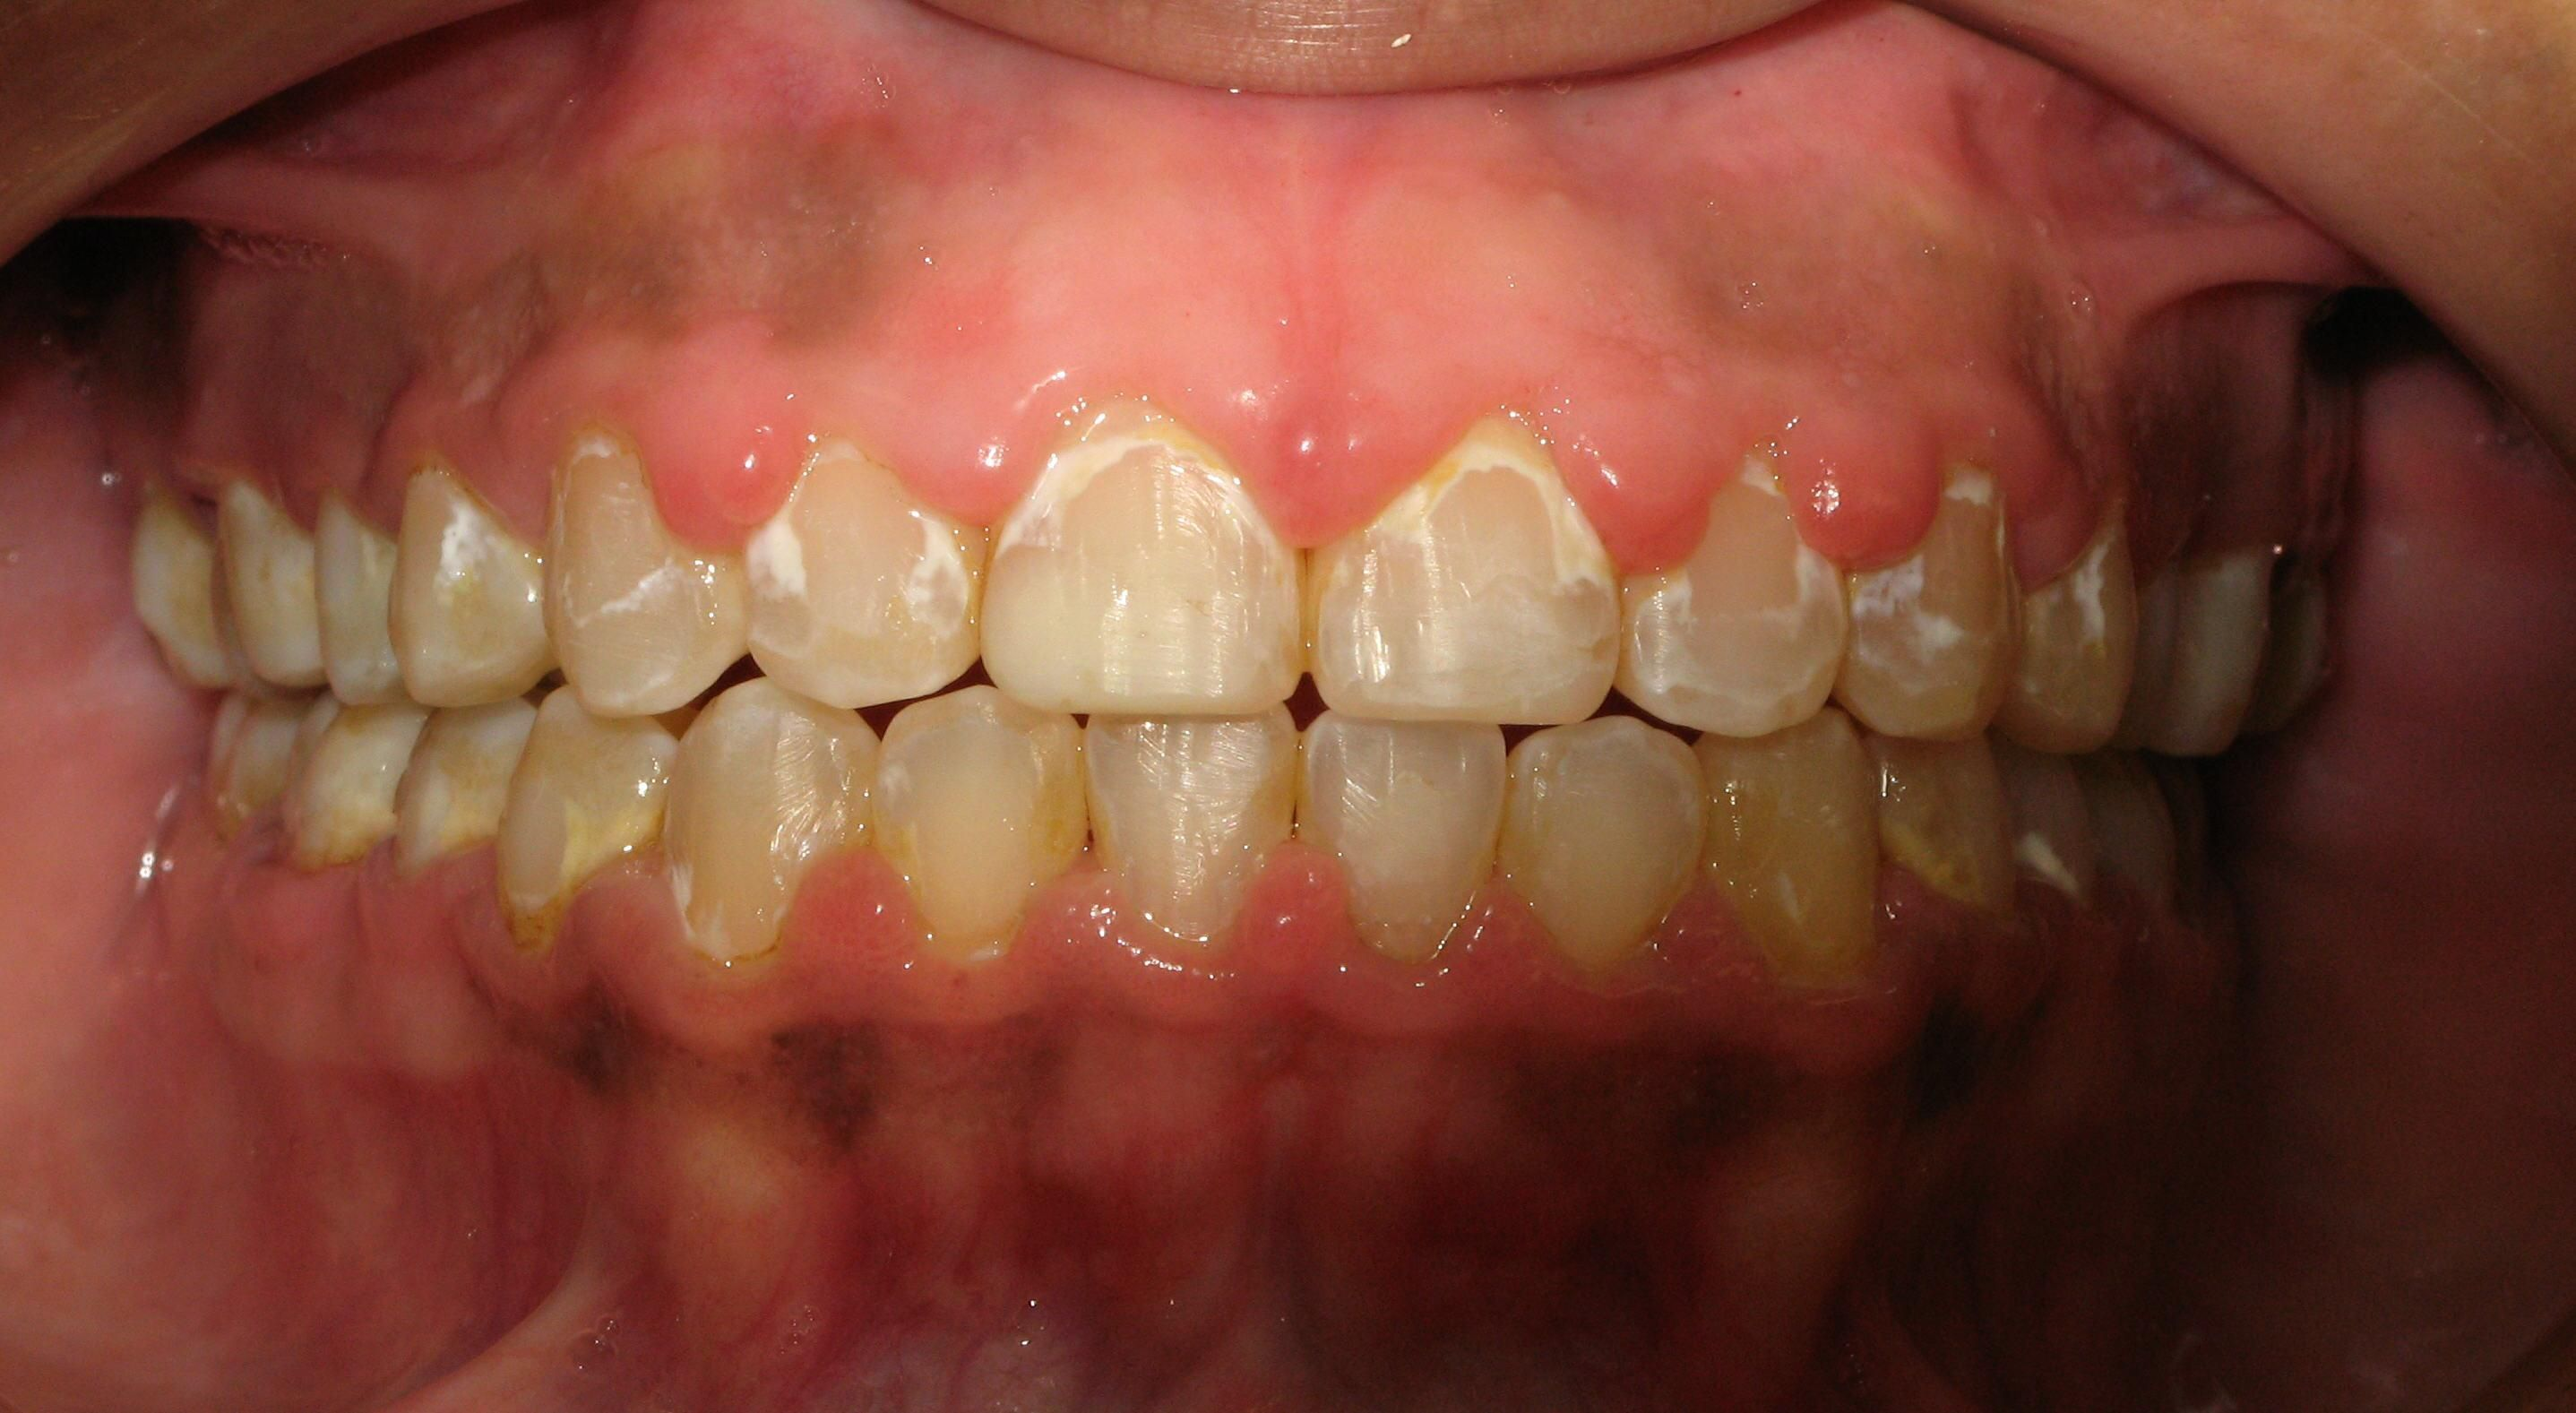LL1BC_decay: (1898, 745, 2042, 938)
LLCI_healthy: (1310, 733, 1506, 969)
LLC_decay: (1705, 736, 1892, 990)
LLLI_healthy: (1512, 738, 1708, 978)
LR1BC_decay: (492, 715, 659, 929)
LR1M_healthy: (280, 715, 397, 879)
LR2BC_healthy: (388, 715, 491, 886)
LRCI_decay: (1085, 722, 1303, 952)
LRC_healthy: (656, 717, 877, 969)
LRLI_healthy: (878, 708, 1092, 955)
UL1BC_decay: (2026, 459, 2136, 773)
ULCI_decay: (1310, 397, 1619, 727)
ULC_decay: (1835, 456, 2026, 740)
ULLI_decay: (1612, 428, 1852, 736)
UR1BC_decay: (398, 477, 564, 706)
UR2BC_decay: (304, 501, 417, 713)
URCI_decay: (981, 395, 1306, 720)
URC_decay: (524, 435, 750, 719)
URLI_decay: (746, 430, 976, 710)
